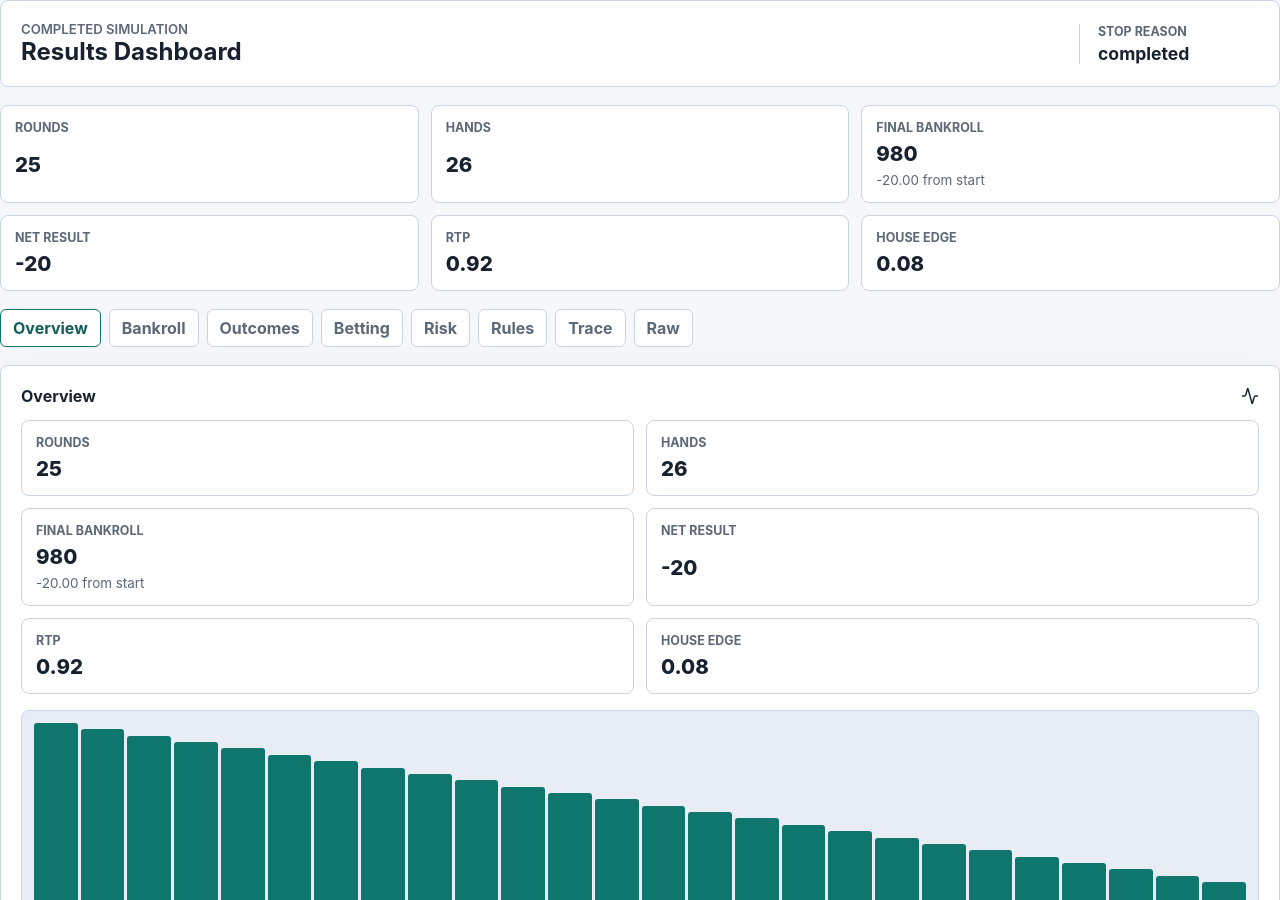
Test: ResultsDashboard › supports tab navigation
Step 1. Click the tab "Trace" → (590, 328), box 555,309 -> 626,347
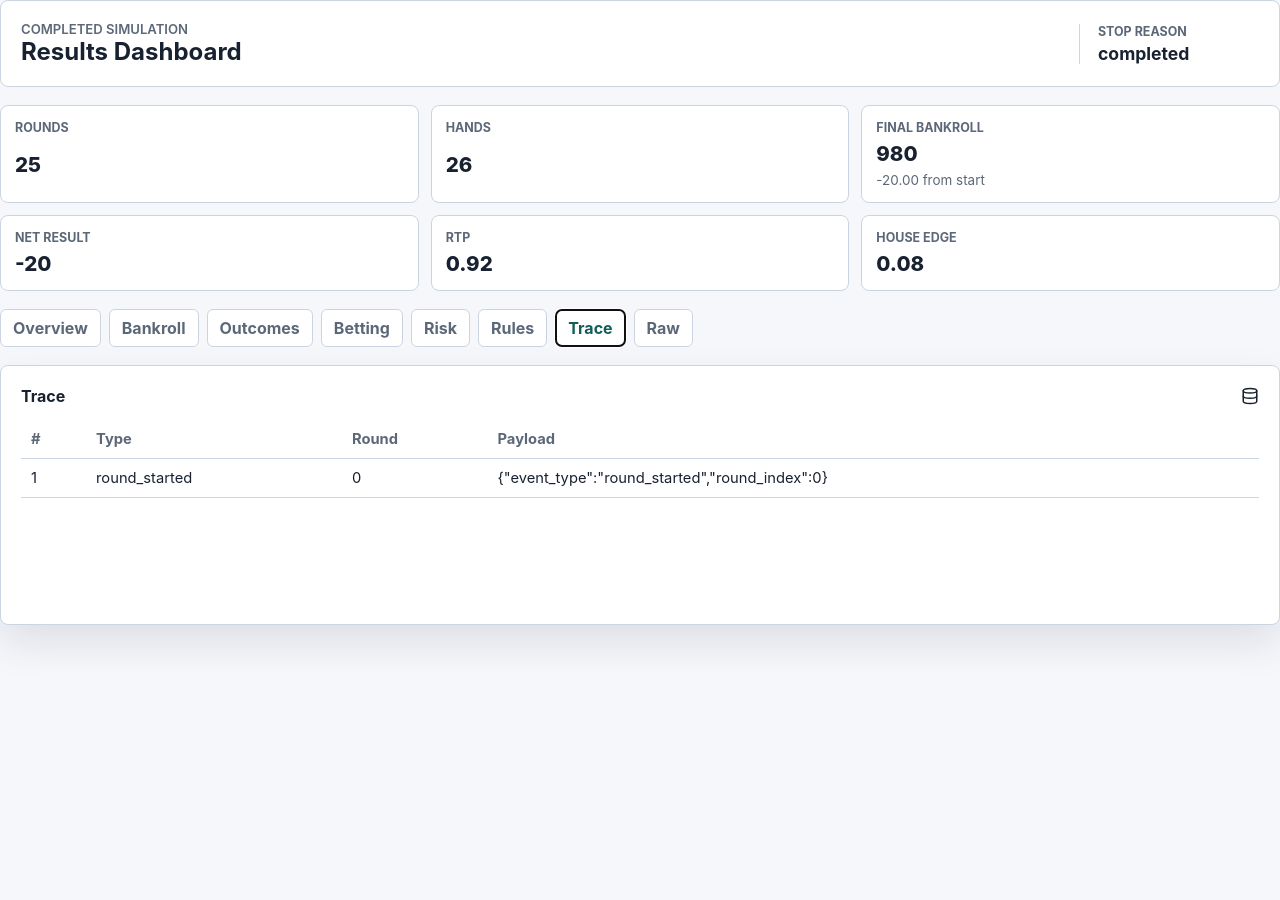
Result: the panel shows "round_started" at 96,469 -> 192,487
